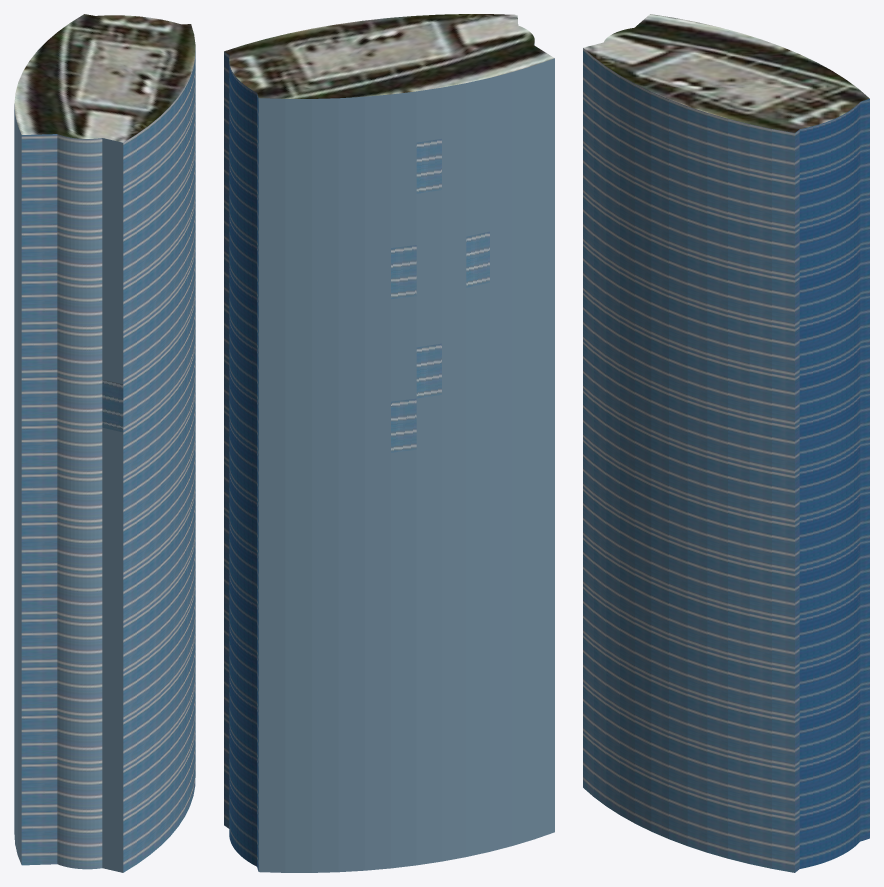
The model's file is Shata-Tower.fbx.
The picture shows the model from 3 angles, left to right: view 1: azimuth 30°, elevation 25°; view 2: azimuth 150°, elevation 25°; view 3: azimuth 270°, elevation 25°; orthographic projection. The views are drawn at different scales.
Parts seen in each view (by area): view 1: Shatha_Tower1; view 2: Shatha_Tower1; view 3: Shatha_Tower1.
Part boxes in pixels (left/top/right/bottom): Shatha_Tower1: left=14, top=14, right=195, bottom=872; Shatha_Tower1: left=224, top=14, right=554, bottom=872; Shatha_Tower1: left=583, top=14, right=869, bottom=872.
Size of what is drawn, in the model's own units: 58.18 by 169 by 59.23.
